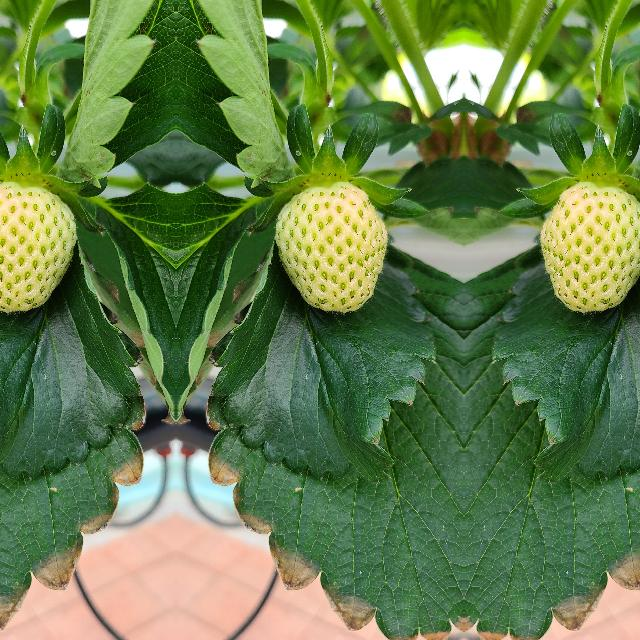Health_25: (272, 180, 388, 316), (537, 180, 640, 316), (0, 180, 78, 316)
